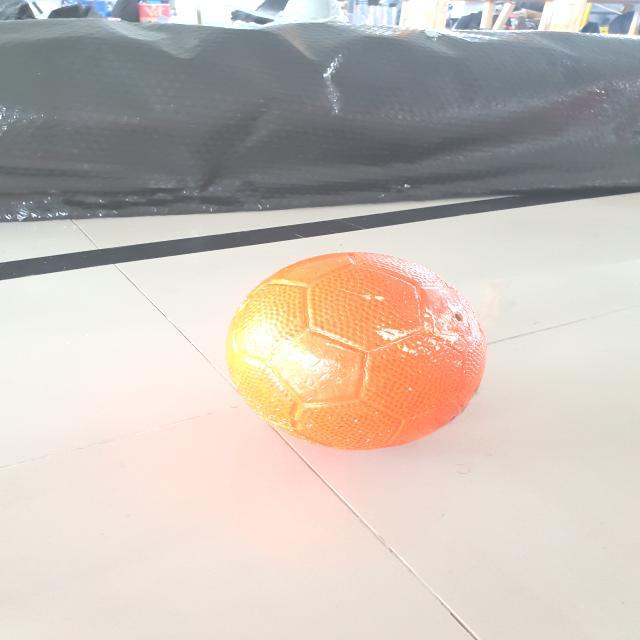bola: (212, 243, 504, 466)
